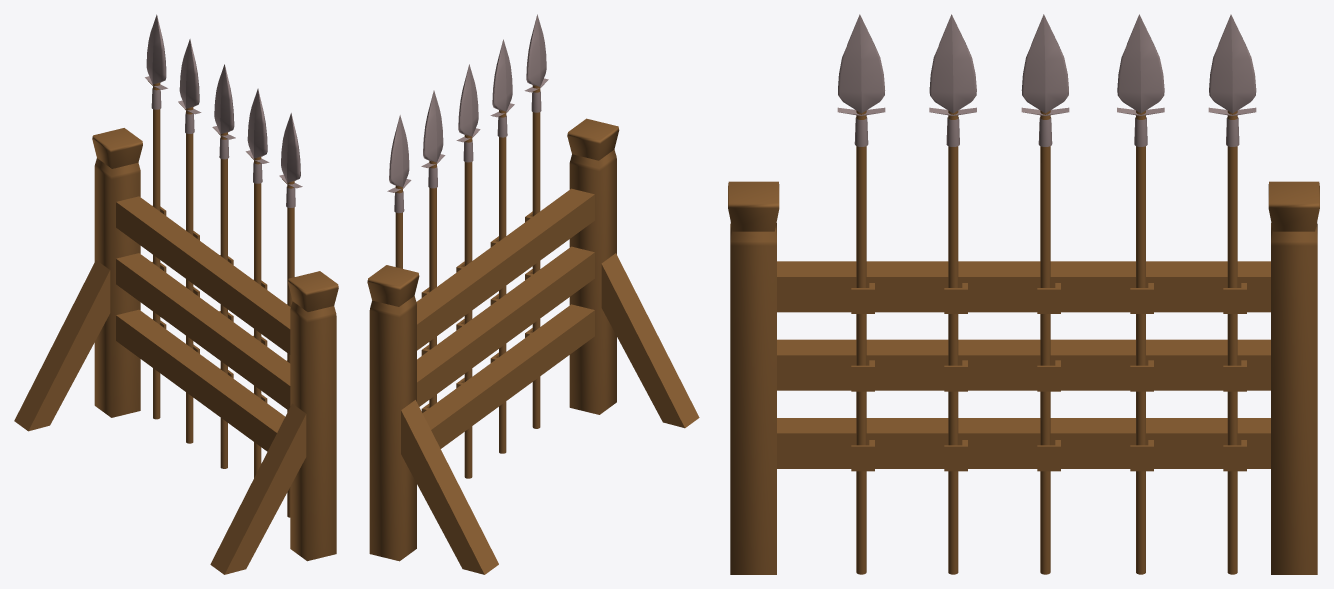
The model's file is Estante de lança.fbx.
The picture shows the model from 3 angles, left to right: view 1: azimuth 30°, elevation 25°; view 2: azimuth 150°, elevation 25°; view 3: azimuth 270°, elevation 25°; orthographic projection. The views are drawn at different scales.
Visible parts, largest first — view 1: Cube.013, Cube.021, Cube.022, Cube.019, Cube.020, Cube.018; view 2: Cube.013, Cube.018, Cube.021, Cube.020, Cube.019, Cube.022; view 3: Cube.013, Cube.020, Cube.022, Cube.018, Cube.021, Cube.019.
Part boxes in pixels (x1,y1,x2,y2): Cube.013: (14, 128, 338, 574); Cube.021: (212, 64, 235, 468); Cube.022: (145, 14, 167, 419); Cube.019: (178, 39, 201, 443); Cube.020: (246, 88, 269, 477); Cube.018: (279, 113, 302, 517); Cube.013: (367, 118, 699, 574); Cube.018: (524, 14, 548, 428); Cube.021: (456, 64, 480, 478); Cube.020: (490, 39, 514, 453); Cube.019: (421, 90, 445, 407); Cube.022: (387, 115, 411, 268); Cube.013: (728, 181, 1319, 574); Cube.020: (929, 14, 976, 574); Cube.022: (1208, 14, 1256, 574); Cube.018: (837, 14, 885, 574); Cube.021: (1021, 14, 1069, 574); Cube.019: (1117, 14, 1164, 574).
Size of the model in its own units: 54.67 by 178 by 170.
